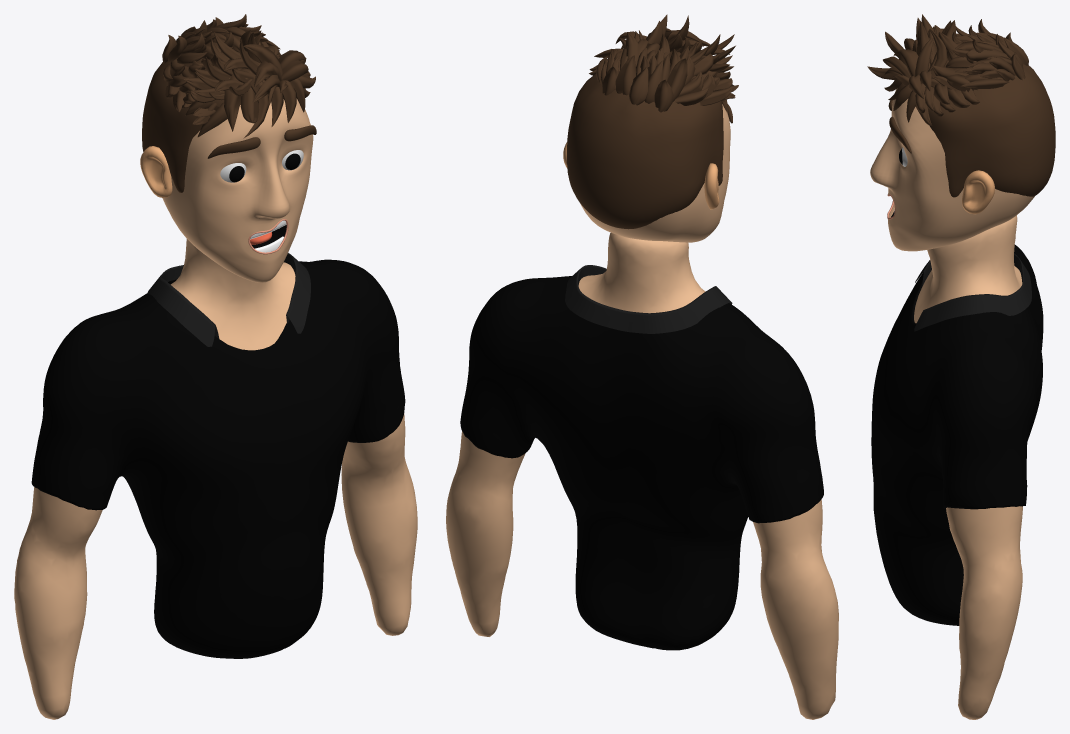
Rendered from myCharacter6.glb.
The picture shows the model from 3 angles, left to right: view 1: azimuth 30°, elevation 25°; view 2: azimuth 150°, elevation 25°; view 3: azimuth 270°, elevation 25°; orthographic projection. The views are drawn at different scales.
Parts seen in each view (by area): view 1: Kunas, Galva; view 2: Kunas, Galva; view 3: Kunas, Galva.
Boxes of the visible parts, bbox=[...] form: Kunas: bbox=[14, 239, 417, 719]; Galva: bbox=[140, 14, 316, 282]; Kunas: bbox=[446, 232, 838, 719]; Galva: bbox=[563, 14, 738, 242]; Kunas: bbox=[871, 215, 1043, 719]; Galva: bbox=[867, 14, 1055, 251].
Bounding box in the file's own units: 0.4827 × 0.7741 × 0.2142.
2 materials, 2 textured.
